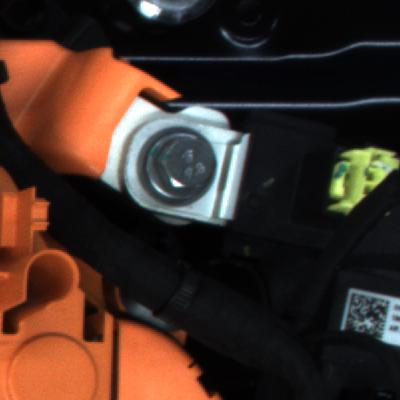nut_b: (139, 122, 230, 208)
